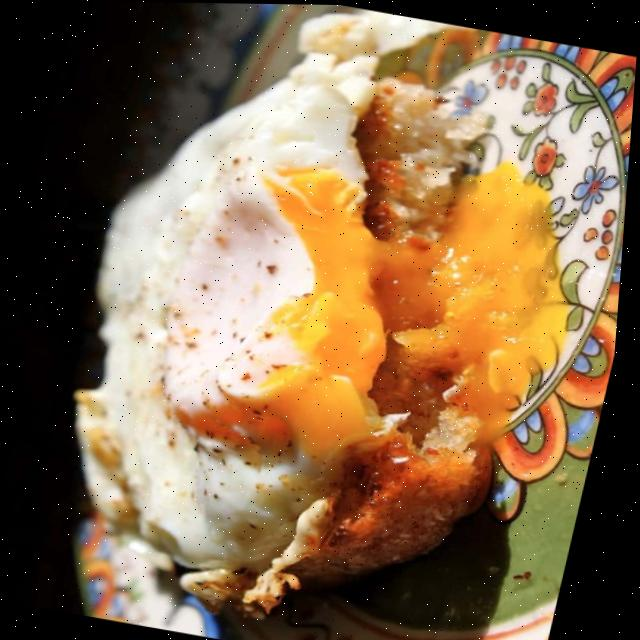Egg: (83, 56, 401, 579)
